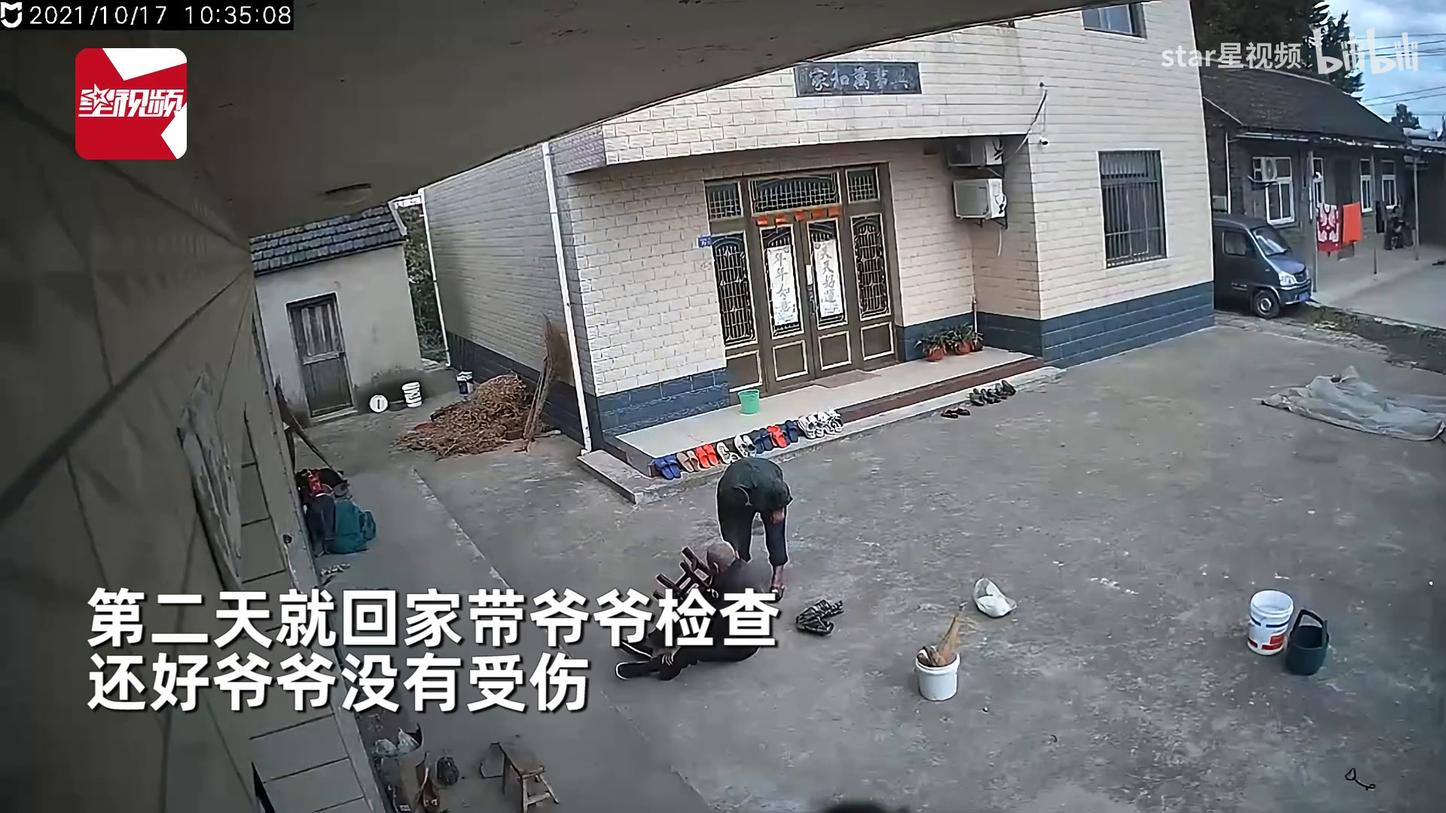bend: (713, 455, 792, 598)
half_up: (617, 542, 786, 681)
